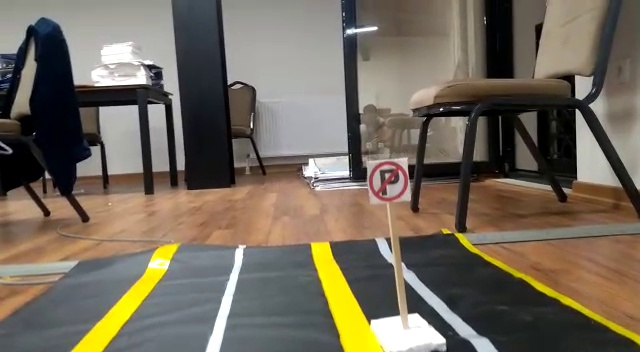park_yapilmaz: (368, 159, 410, 202)
